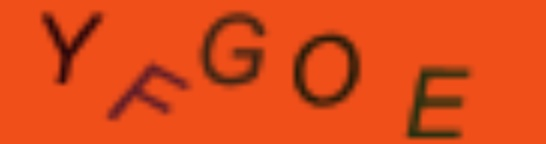E: (400, 62, 474, 144)
F: (102, 57, 191, 125)
G: (196, 8, 268, 90)
O: (285, 29, 364, 112)
Y: (36, 6, 109, 89)
